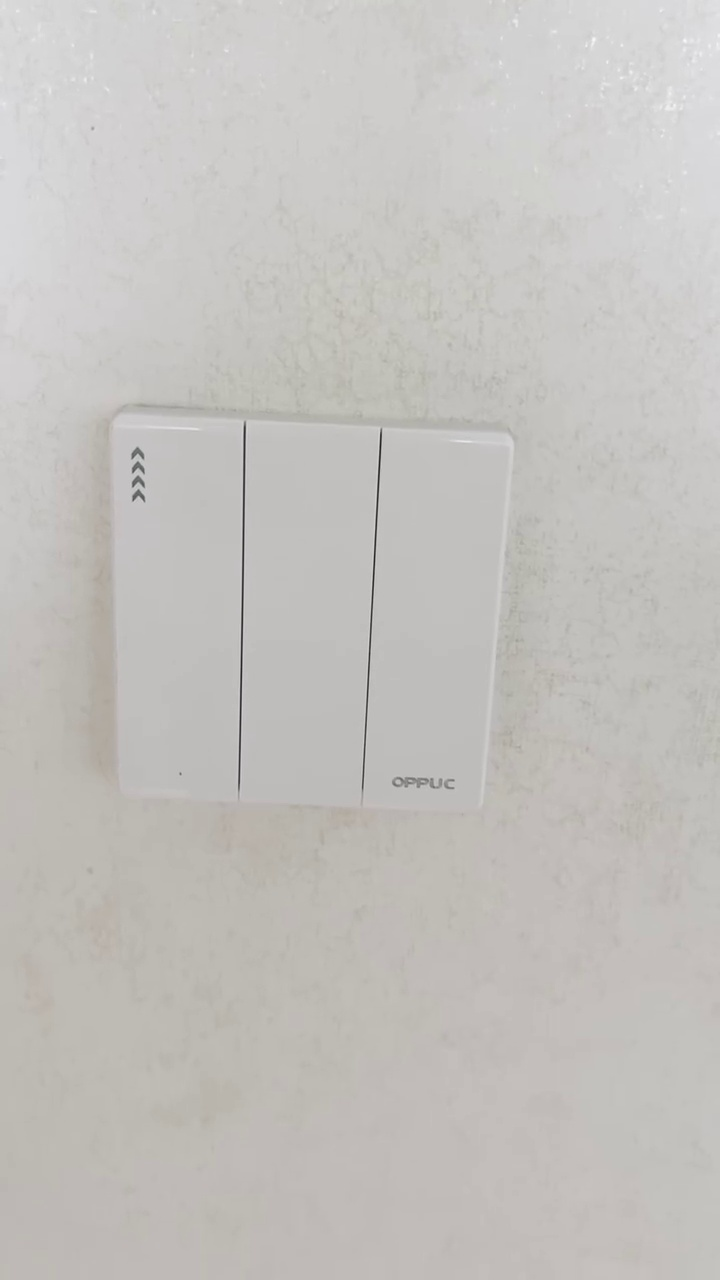button1: (233, 416, 380, 805), (364, 424, 502, 813), (118, 415, 247, 800)
